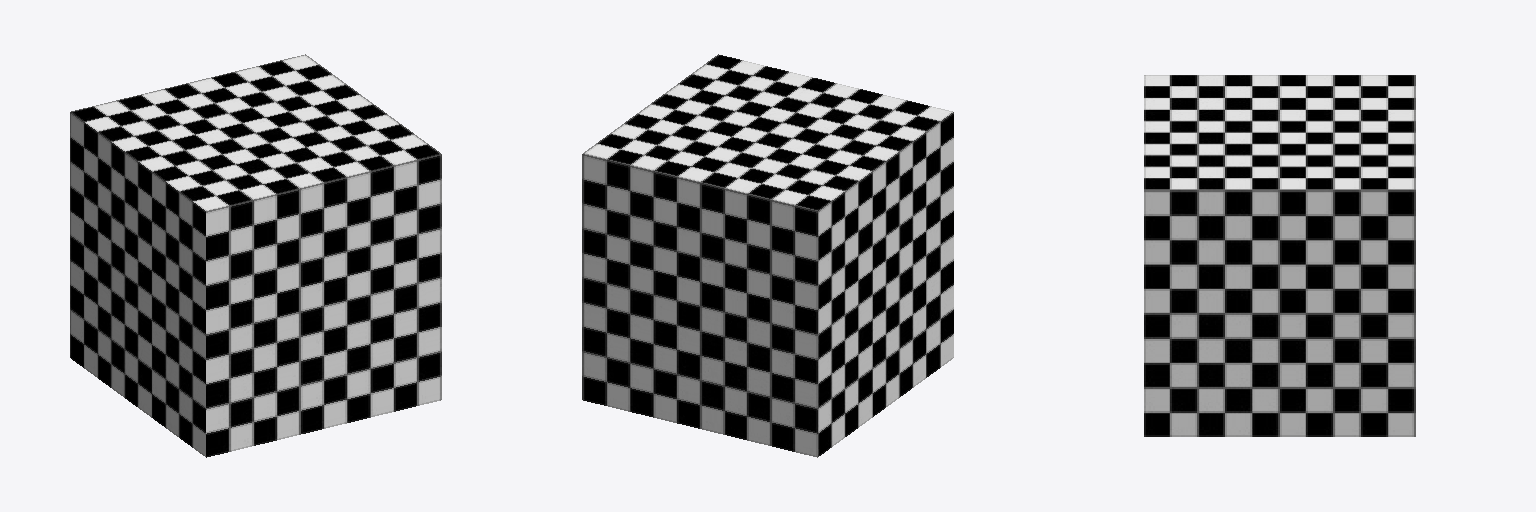
The picture shows the model from 3 angles: view 1: azimuth 30°, elevation 25°; view 2: azimuth 150°, elevation 25°; view 3: azimuth 270°, elevation 25°; orthographic projection.
Visible parts, largest first — view 1: Cube; view 2: Cube; view 3: Cube.
Part boxes in pixels (left/top/right/bottom): Cube: left=70, top=54, right=441, bottom=457; Cube: left=582, top=54, right=953, bottom=457; Cube: left=1144, top=75, right=1415, bottom=436.
Bounding box in the file's own units: 2 × 2 × 2.
1 materials, 1 textured.